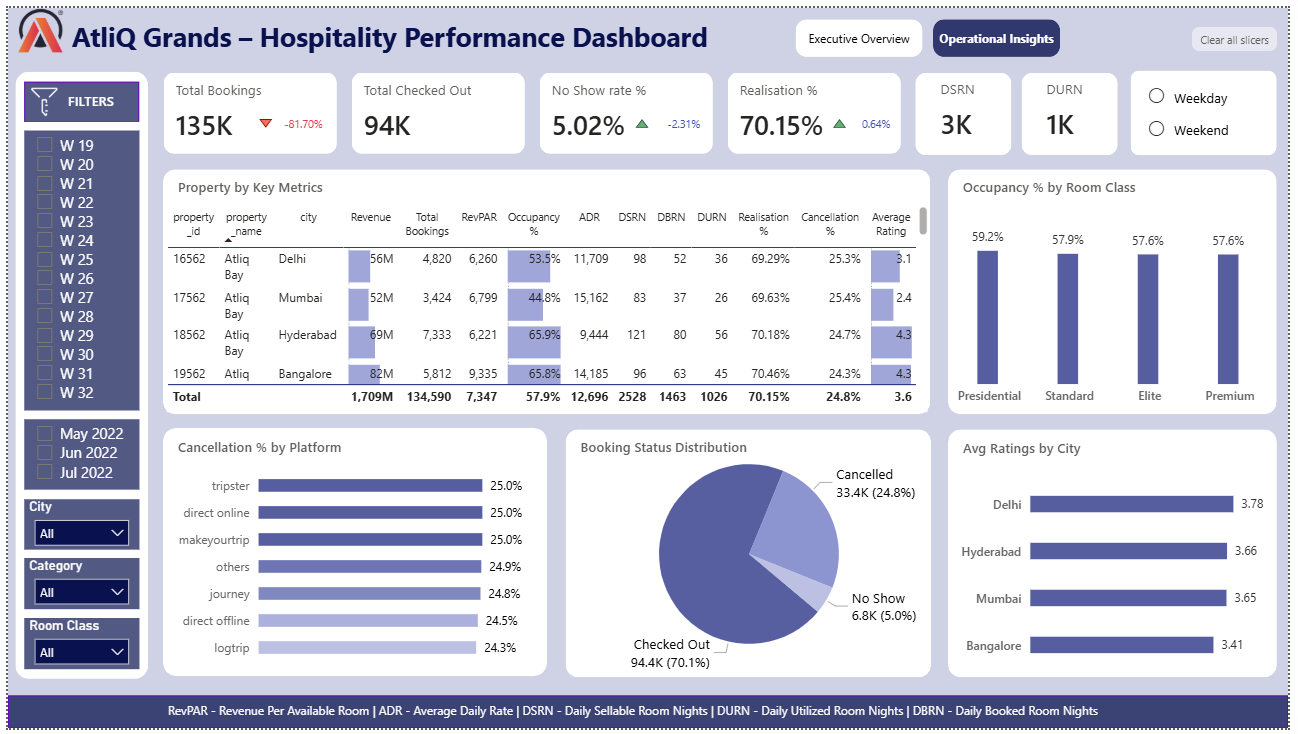

The dashboard page shown, as its layout file describes it:
{"tool":"powerbi","page":{"name":"Operational Insights ","canvas":[1280,720],"ordinal":1},"visuals":[{"type":"cardVisual","fields":{"Data":["Key_Measures.Total Bookings","Key_Measures.Total Checked Out","Key_Measures.No Show rate %","Key_Measures.Realisation %"]},"box":[149,62,752,95.4],"z":0,"group":"g1"},{"type":"shape","box":[1122.5,62.5,146.2,85],"z":0},{"type":"textbox","box":[58.8,5,651.2,45],"z":1000},{"type":"cardVisual","fields":{"Data":["Key_Measures.DSRN","Key_Measures.DURN"]},"box":[902,65,213.8,82.5],"z":2000},{"type":"shape","box":[155,161.2,767.5,245],"z":3000},{"type":"shape","box":[940.4,420.7,328.9,248.2],"z":4000},{"type":"shape","box":[557.6,420.7,365.6,248.2],"z":5000},{"type":"image","box":[7.5,0,51.2,45],"z":6000},{"type":"group","id":"g1","title":"Group 1","box":[149,62,752,95.4],"z":7000},{"type":"tableEx","fields":{"Values":["Key_Measures.Total Bookings WoW change %"]},"box":[240.7,80.3,90.5,52.6],"z":7500,"group":"g1"},{"type":"tableEx","fields":{"Values":["Key_Measures.No Show WoW change %"]},"box":[616.1,80.3,90.5,52.6],"z":8000,"group":"g1"},{"type":"clusteredBarChart","fields":{"Category":["dim_hotels.city"],"Y":["Key_Measures.Average Rating"]},"box":[947.7,456.1,313,215.2],"z":8000},{"type":"tableEx","fields":{"Values":["Key_Measures.Realisation WoW change %"]},"box":[814.2,80.3,79.5,52.6],"z":8500,"group":"g1"},{"type":"pieChart","fields":{"Category":["fact_bookings.booking_status"],"Y":["CountNonNull(fact_bookings.booking_id)"]},"box":[557.6,425.5,366.8,242.1],"z":9000},{"type":"shape","box":[155.3,420,384,248],"z":10000},{"type":"clusteredBarChart","fields":{"Category":["fact_bookings.booking_platform"],"Y":["Key_Measures.Cancellation %"]},"box":[159,447.6,365.6,215.2],"z":11000},{"type":"shape","box":[940,161.2,328.8,245],"z":12000},{"type":"shape","box":[7.5,63.8,132.5,617],"z":13000},{"type":"clusteredColumnChart","fields":{"Category":["dim_rooms.room_class"],"Y":["Key_Measures.Occupancy %"]},"box":[932.5,205,338.8,201.2],"z":14000},{"type":"shape","box":[0,687.5,1280,32.5],"z":15000},{"type":"textbox","box":[165,165,245,27.5],"z":16000},{"type":"textbox","box":[165.1,425,190,30],"z":17000},{"type":"textbox","box":[950,165.1,200.5,30.6],"z":18000},{"type":"textbox","box":[950,426,190,30],"z":19000},{"type":"textbox","box":[567,425,190,30],"z":20000},{"type":"shape","box":[16.3,73.5,114.9,40.4],"z":21000},{"type":"image","box":[18.8,76.2,35,35],"z":22000},{"type":"textbox","box":[55.4,78.4,67.3,35.5],"z":23000},{"type":"slicer","fields":{"Values":["dim_date.week no"]},"box":[16.2,122.9,115,280],"z":24000},{"type":"slicer","fields":{"Values":["dim_date.mmm yy"]},"box":[16.2,411.8,115,70],"z":25000},{"type":"slicer","title":"Room Class","fields":{"Values":["dim_rooms.room_class"]},"box":[16.2,610,115,51],"z":26000},{"type":"slicer","title":"Category","fields":{"Values":["dim_hotels.category"]},"box":[16.2,549.8,115,51.2],"z":27000},{"type":"slicer","title":"City","fields":{"Values":["dim_hotels.city"]},"box":[16.2,490.8,115,50],"z":28000},{"type":"textbox","box":[155.3,687.2,1125,33],"z":29000},{"type":"tableEx","fields":{"Values":["dim_hotels.property_id","dim_hotels.property_name","dim_hotels.city","Key_Measures.Revenue","Key_Measures.Total Bookings","Key_Measures.RevPAR","Key_Measures.Occupancy %","Key_Measures.ADR","Key_Measures.DSRN","Key_Measures.DBRN","Key_Measures.DURN","Key_Measures.Realisation %"]},"box":[159,193.2,760.6,210.3],"z":30000},{"type":"shape","box":[787.5,11,127.2,37.9],"z":31000},{"type":"shape","box":[924.5,11,127.2,37.9],"z":32000},{"type":"actionButton","box":[1183.7,18.3,85.6,24.5],"z":33000},{"type":"listSlicer","fields":{"Values":["dim_date.day type"]},"box":[1140,73.8,115,72.5],"z":34000}]}

Visuals, with their boxes in screenshot pixels (x1, y1, x2, y2), scaled from the page's 1280x720 canvas onto the 1298x734 screenshot:
cardVisual - Key_Measures.Total Bookings x Key_Measures.Total Checked Out: 151:63:914:160
shape: 1138:64:1287:150
textbox: 60:5:720:51
cardVisual - Key_Measures.DSRN x Key_Measures.DURN: 915:66:1131:150
shape: 157:164:935:414
shape: 954:429:1287:682
shape: 565:429:936:682
image: 8:0:60:46
"Group 1" group: 151:63:914:160
tableEx - Key_Measures.Total Bookings WoW change %: 244:82:336:135
tableEx - Key_Measures.No Show WoW change %: 625:82:717:135
clusteredBarChart - dim_hotels.city x Key_Measures.Average Rating: 961:465:1278:684
tableEx - Key_Measures.Realisation WoW change %: 826:82:906:135
pieChart - fact_bookings.booking_status x CountNonNull(fact_bookings.booking_id): 565:434:937:681
shape: 157:428:547:681
clusteredBarChart - fact_bookings.booking_platform x Key_Measures.Cancellation %: 161:456:532:676
shape: 953:164:1287:414
shape: 8:65:142:694
clusteredColumnChart - dim_rooms.room_class x Key_Measures.Occupancy %: 946:209:1289:414
shape: 0:701:1297:733
textbox: 167:168:416:196
textbox: 167:433:360:464
textbox: 963:168:1167:200
textbox: 963:434:1156:465
textbox: 575:433:768:464
shape: 17:75:133:116
image: 19:78:55:113
textbox: 56:80:124:116
slicer - dim_date.week no: 16:125:133:411
slicer - dim_date.mmm yy: 16:420:133:491
"Room Class" slicer: 16:622:133:674
"Category" slicer: 16:560:133:613
"City" slicer: 16:500:133:551
textbox: 157:701:1297:733
tableEx - dim_hotels.property_id x dim_hotels.property_name: 161:197:933:411
shape: 799:11:928:50
shape: 938:11:1066:50
actionButton: 1200:19:1287:44
listSlicer - dim_date.day type: 1156:75:1273:149
